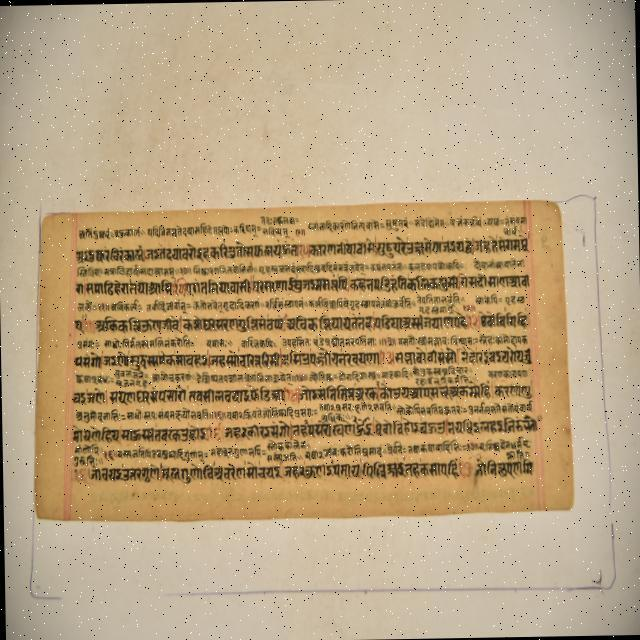text_paragraph: (34, 200, 572, 520)
